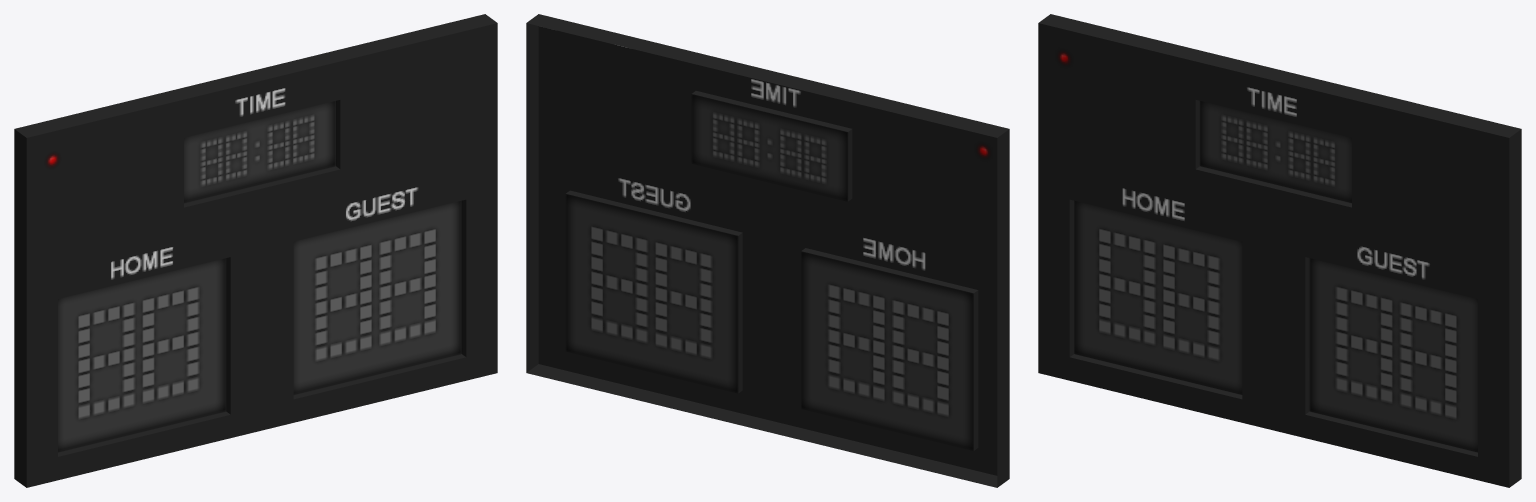
The model's file is scoreboard.glb.
The picture shows the model from 3 angles, left to right: view 1: azimuth 30°, elevation 25°; view 2: azimuth 150°, elevation 25°; view 3: azimuth 330°, elevation 25°; orthographic projection.
Parts seen in each view (by area): view 1: scorebord; view 2: scorebord; view 3: scorebord.
Boxes of the visible parts, <box> form: scorebord: <box>14,14,497,487</box>; scorebord: <box>526,14,1009,487</box>; scorebord: <box>1038,14,1521,487</box>.
Bounding box in the file's own units: 7.71 × 5.47 × 0.3508.
1 material, 1 textured.
